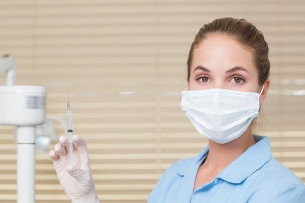Mask: (180, 61, 265, 146)
